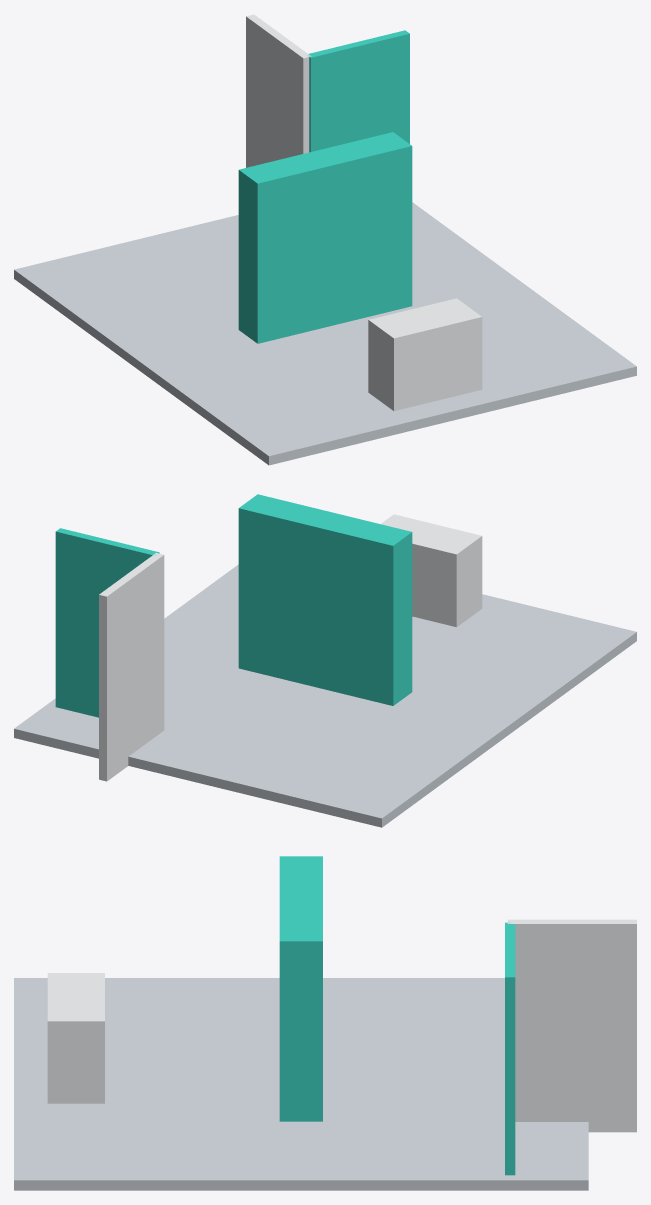
3 views of the same model, one above another, from view 1: azimuth 30°, elevation 25°; view 2: azimuth 150°, elevation 25°; view 3: azimuth 270°, elevation 25° (orthographic). The views are drawn at different scales.
Parts seen in each view (by area): view 1: Exhibition Booth Concept; view 2: Exhibition Booth Concept; view 3: Exhibition Booth Concept.
Part boxes in pixels (x1=…): Exhibition Booth Concept: x1=14, y1=14, x2=636, y2=465; Exhibition Booth Concept: x1=14, y1=494, x2=636, y2=827; Exhibition Booth Concept: x1=14, y1=856, x2=636, y2=1190.
Size of the model in its own units: 5 by 2.4 by 6.51.
